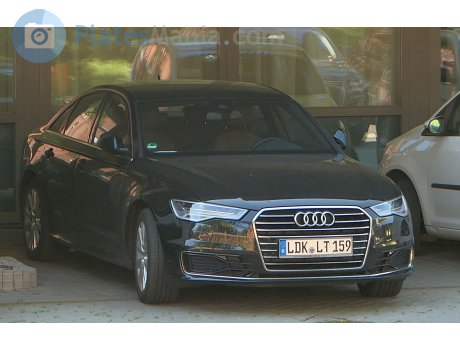License Plates: (285, 241, 350, 249)
